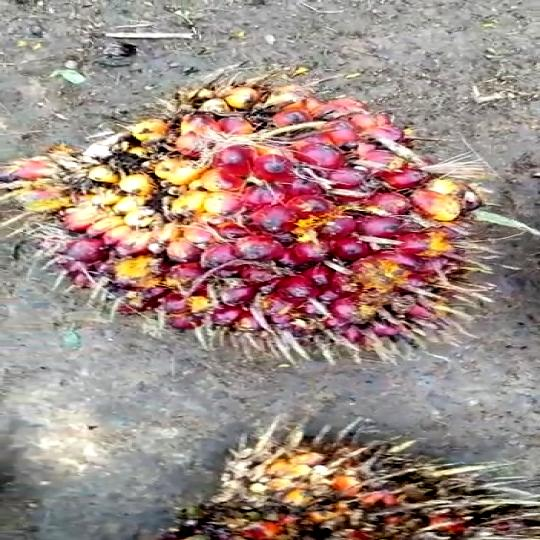masak: (5, 65, 479, 357)
